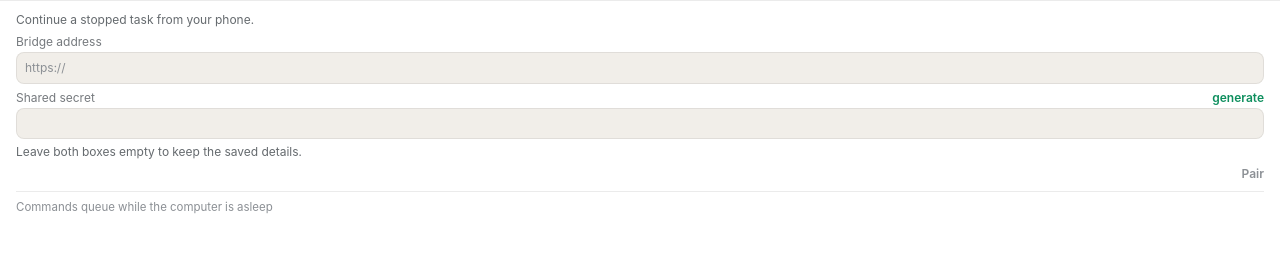
Test: the remote continuation page › does not keep a typed secret after saving, since the user already has it
Type "https://bridge.example.com/x" into the field labelled "Bridge address".
click(640, 68); type("https://bridge.example.com/x")  # box [16,52,1264,84]
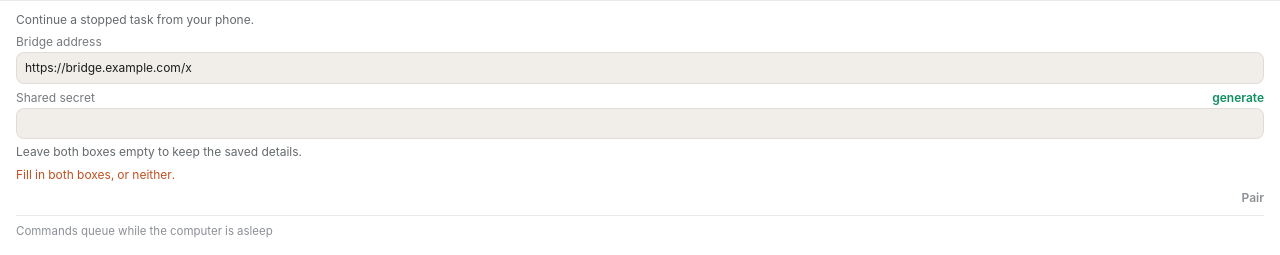
Type "typed-by-hand-1234" into the password field labelled "Shared secret".
click(640, 123); type("typed-by-hand-1234")  # box [16,108,1264,139]
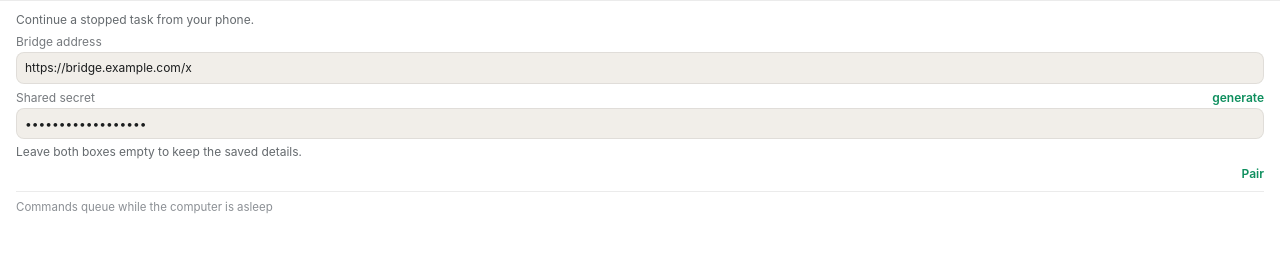
Click the button "Pair".
click(1253, 174)  # box [1242,166,1264,181]
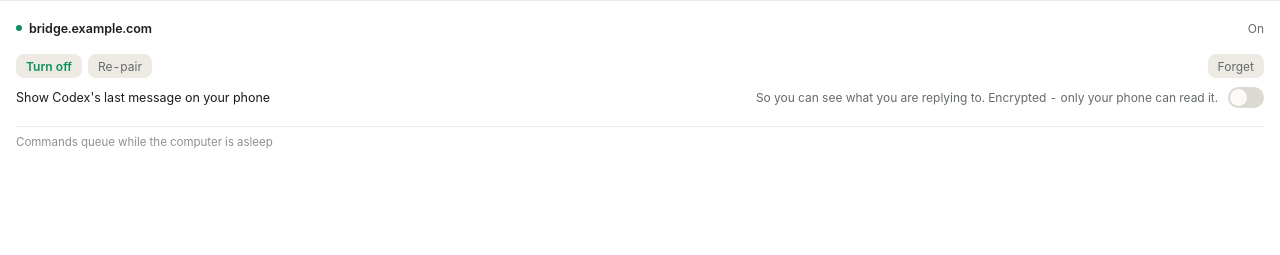
Expected: no fields are shown
